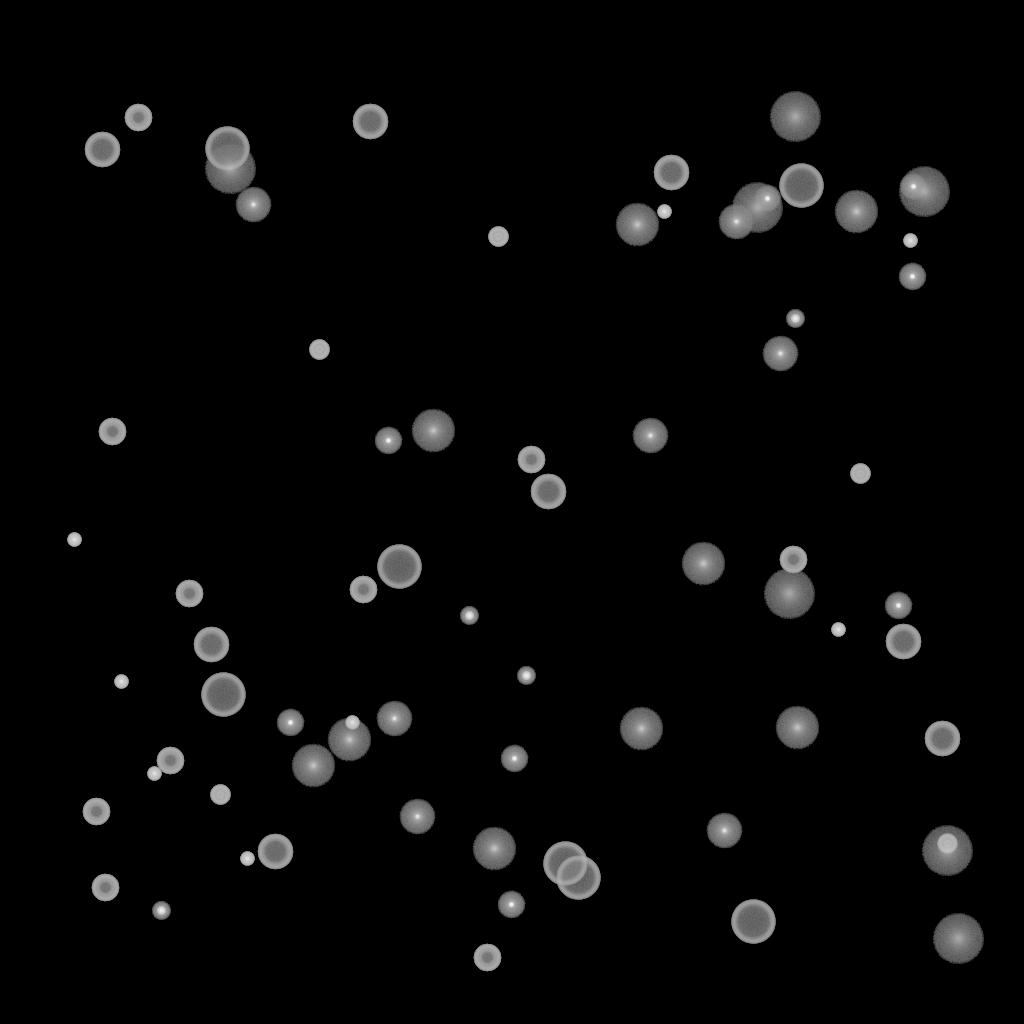depth:-10: (500, 745, 528, 773), (374, 427, 402, 455), (497, 891, 525, 919), (276, 709, 304, 737), (898, 263, 926, 291), (753, 185, 781, 213), (884, 592, 912, 620), (899, 173, 927, 201)
depth:-20: (152, 902, 170, 920), (517, 667, 535, 685), (460, 607, 478, 625), (786, 310, 804, 328)
depth:-30: (345, 716, 359, 730), (114, 675, 128, 689), (903, 234, 917, 248), (240, 852, 254, 866), (67, 533, 81, 547), (657, 205, 671, 219), (147, 767, 161, 781), (831, 623, 845, 637)
depth:-40: (850, 464, 870, 484), (309, 340, 329, 360), (937, 834, 957, 854), (210, 785, 230, 805), (488, 227, 508, 247)
depth:-50: (124, 104, 152, 132), (779, 546, 807, 574), (98, 418, 126, 446), (156, 747, 184, 775), (175, 580, 203, 608), (82, 798, 110, 826), (517, 446, 545, 474), (473, 944, 501, 972), (349, 576, 377, 604), (91, 874, 119, 902)
depth:-60: (84, 132, 120, 168), (530, 474, 566, 510), (885, 624, 921, 660), (352, 104, 388, 140), (924, 721, 960, 757), (653, 155, 689, 191), (257, 834, 293, 870), (193, 627, 229, 663)
depth:-70: (377, 545, 421, 589), (779, 164, 823, 208), (731, 900, 775, 944), (201, 673, 245, 717), (556, 856, 600, 900), (543, 842, 587, 886), (205, 127, 249, 171)
depth:0: (235, 187, 271, 223), (399, 799, 435, 835), (718, 204, 754, 240), (706, 813, 742, 849), (762, 336, 798, 372), (632, 418, 668, 454), (376, 701, 412, 737)
depth:10: (619, 707, 663, 751), (615, 203, 659, 247), (291, 744, 335, 788), (411, 409, 455, 453), (775, 706, 819, 750), (681, 542, 725, 586), (327, 718, 371, 762), (472, 827, 516, 871), (834, 190, 878, 234)
depth:20: (932, 914, 984, 964), (769, 92, 821, 142), (921, 826, 973, 876), (763, 569, 815, 619), (731, 183, 783, 233), (204, 144, 256, 194), (898, 167, 950, 217)
